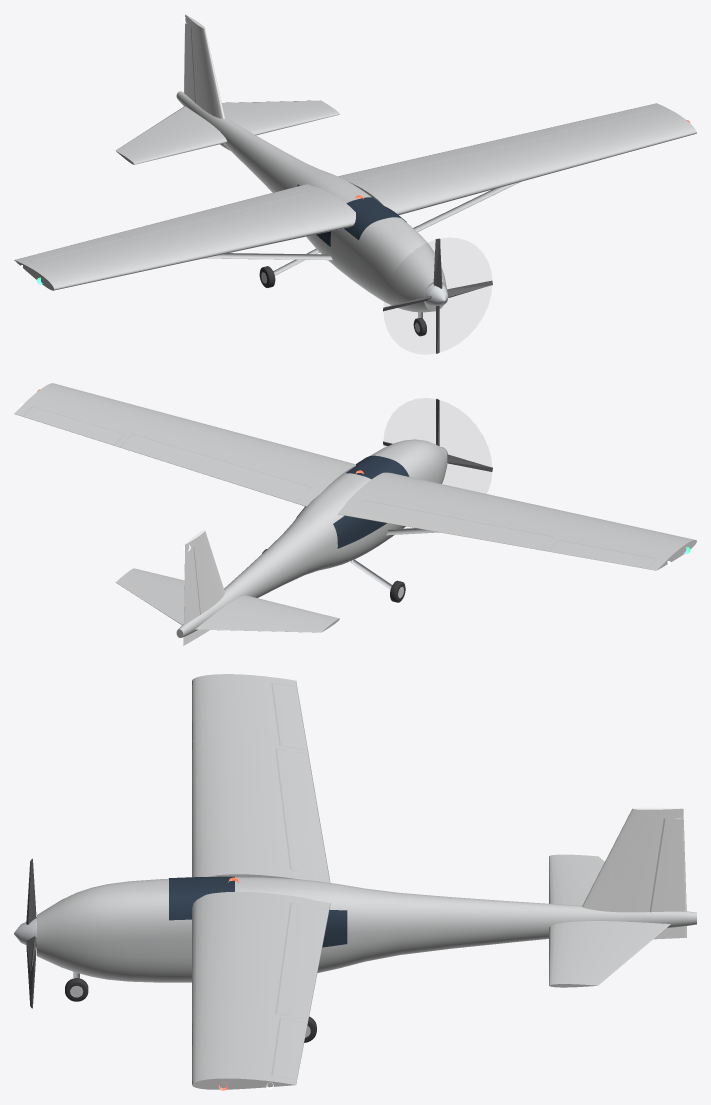
Rendered from KODI.glb.
3 views of the same model, one above another, from view 1: azimuth 30°, elevation 25°; view 2: azimuth 150°, elevation 25°; view 3: azimuth 270°, elevation 25° (orthographic). The views are drawn at different scales.
Parts seen in each view (by area): view 1: airframe, prop; view 2: airframe, prop; view 3: airframe, prop.
Boxes of the visible parts, box(x1,y1,x2,y2) form: airframe: box(14, 14, 696, 336); prop: box(383, 238, 492, 353); airframe: box(14, 383, 696, 645); prop: box(383, 398, 492, 471); airframe: box(14, 674, 696, 1090); prop: box(26, 858, 36, 1008).
Size of the model in its own units: 14.72 by 3.32 by 10.35.
